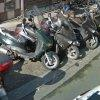Motorcycle: (2, 21, 84, 71)
